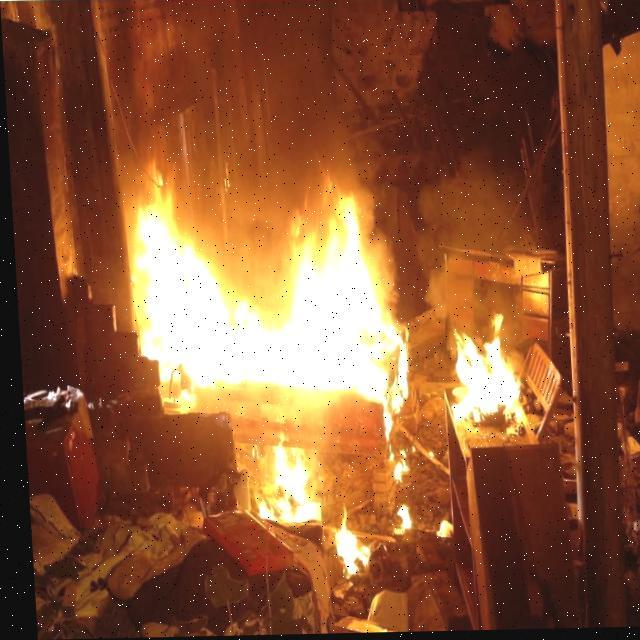Fire: (126, 175, 400, 428), (442, 328, 523, 434), (254, 441, 313, 528), (326, 512, 358, 578)
